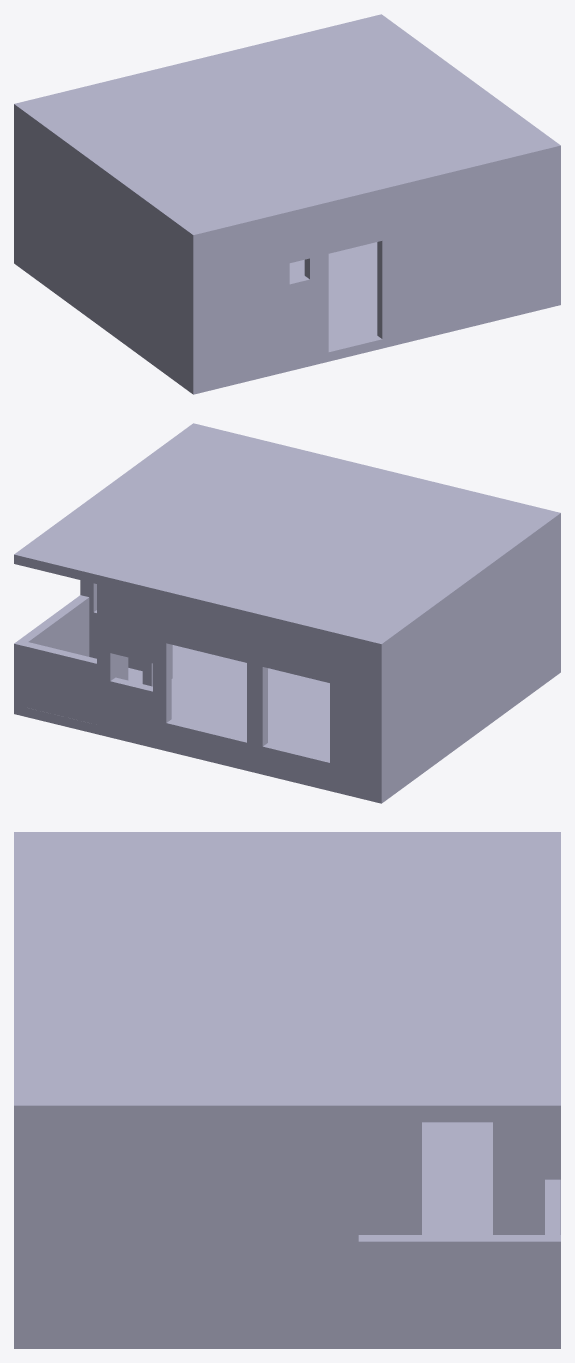
The model's file is twoBR.gltf.
3 renders of one model, top to bottom at view 1: azimuth 30°, elevation 25°; view 2: azimuth 150°, elevation 25°; view 3: azimuth 270°, elevation 25°, orthographic. The views are drawn at different scales.
Bounding box in the file's own units: 8.2 × 3.4 × 6.93.
